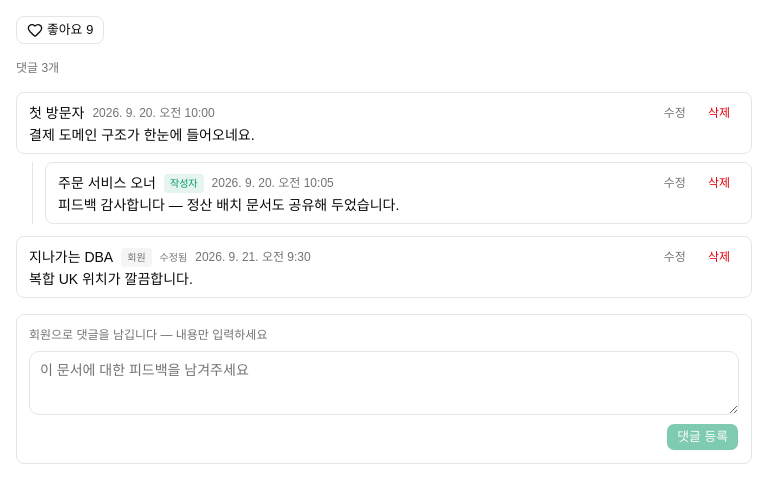
it: ShareFeedbackSection — 문서 좋아요(회원전용) › flips optimistically and settles to the server value for members
The image size is (769, 481).
Expected: the list with test id "share-comment-list" is shown, [16, 92, 752, 298]
Click the button with test id "share-reaction-button" at (60, 30), box [16, 16, 104, 44]
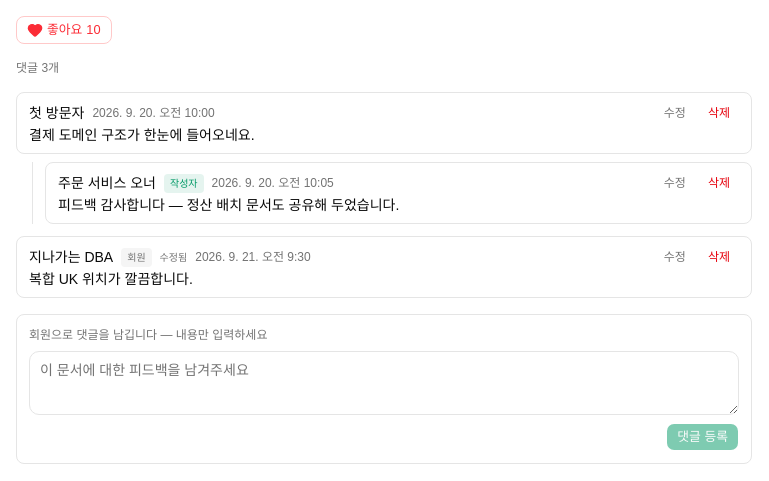
Now the text with test id "share-reaction-count" reads "10", box [86, 22, 100, 37]
